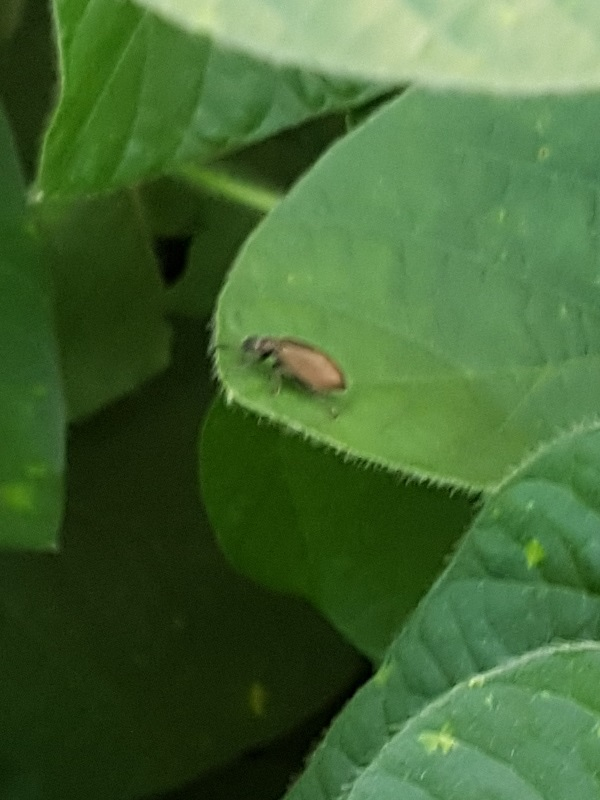Lagria_villosa: (200, 302, 361, 434)
